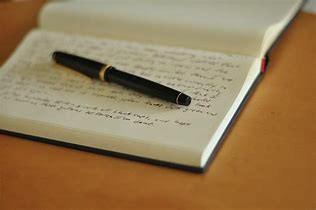pen: (46, 53, 195, 107)
